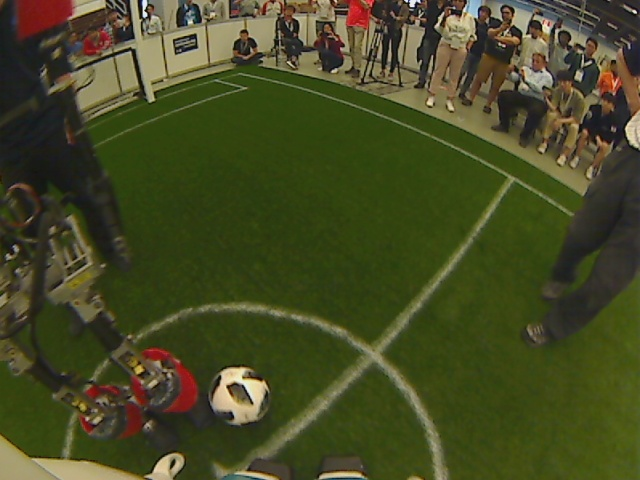ball: (205, 362, 276, 429)
